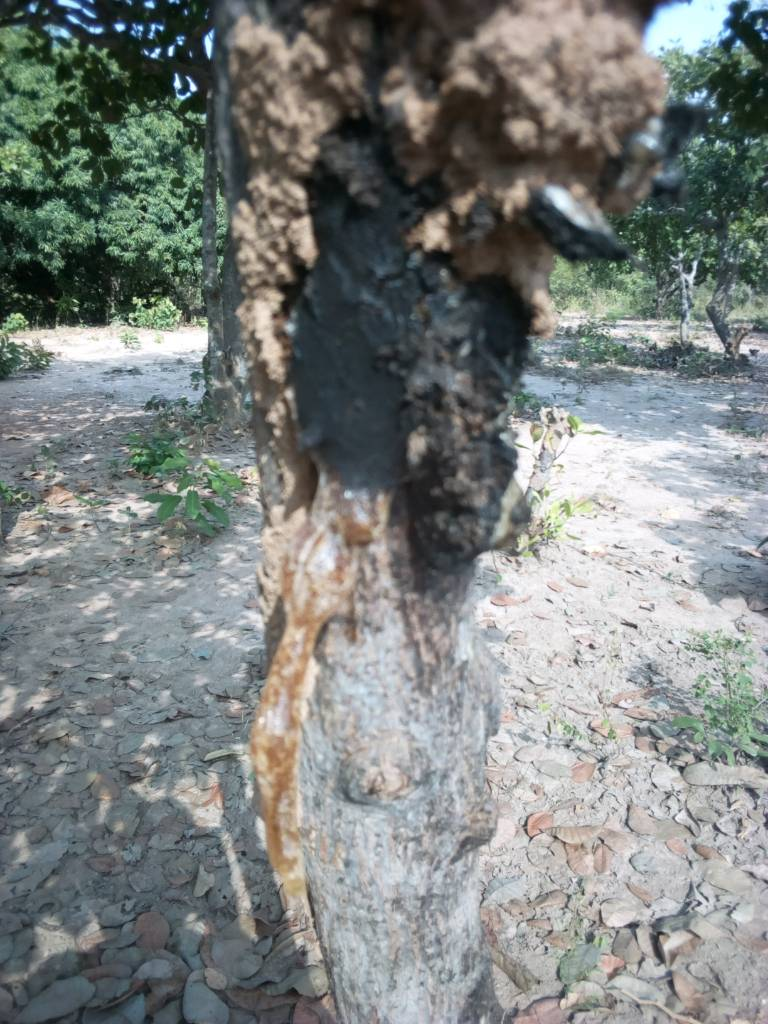Virose: (141, 1, 755, 603)
